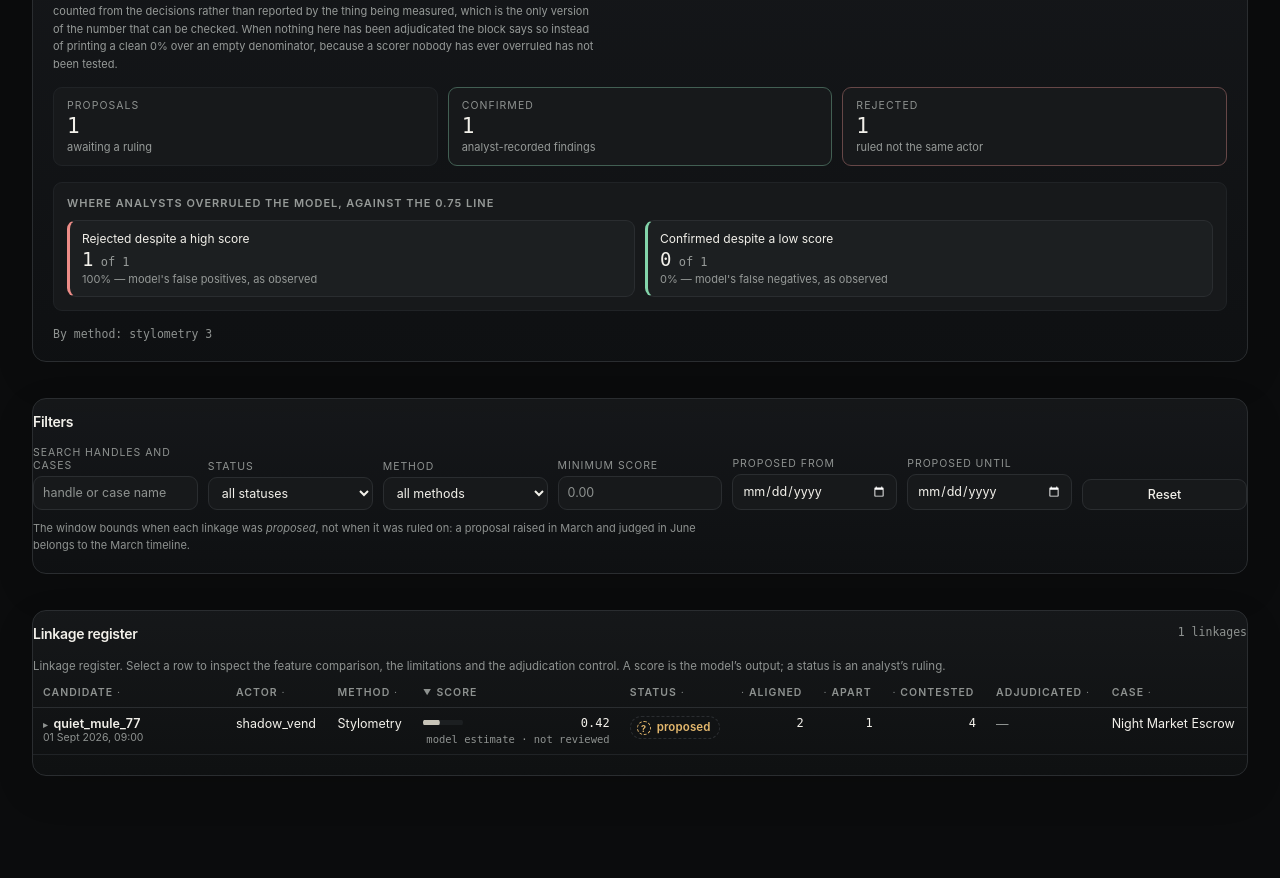
Test case: PersonasPage › shows the feature names and the full limitations when a row is expanded
(page scrolled)
Click the button "quiet_mule_77": x=92, y=724 [43,716,140,731]
(page scrolled)
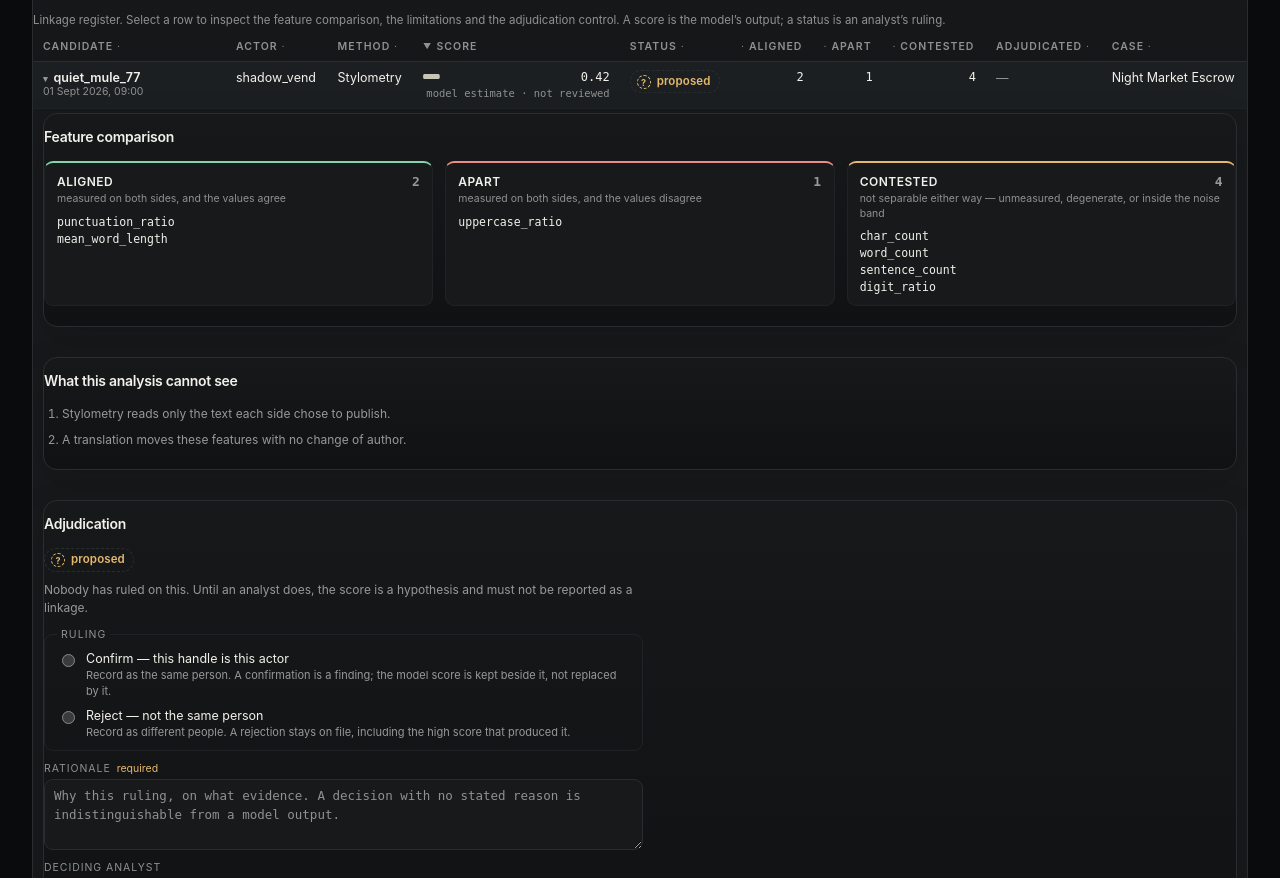
expect the text "punctuation_ratio" is shown: met, box [57,215,175,229]
expect the text "mean_word_length" is shown: met, box [57,232,168,246]
expect the text "uppercase_ratio" is shown: met, box [458,215,562,229]
